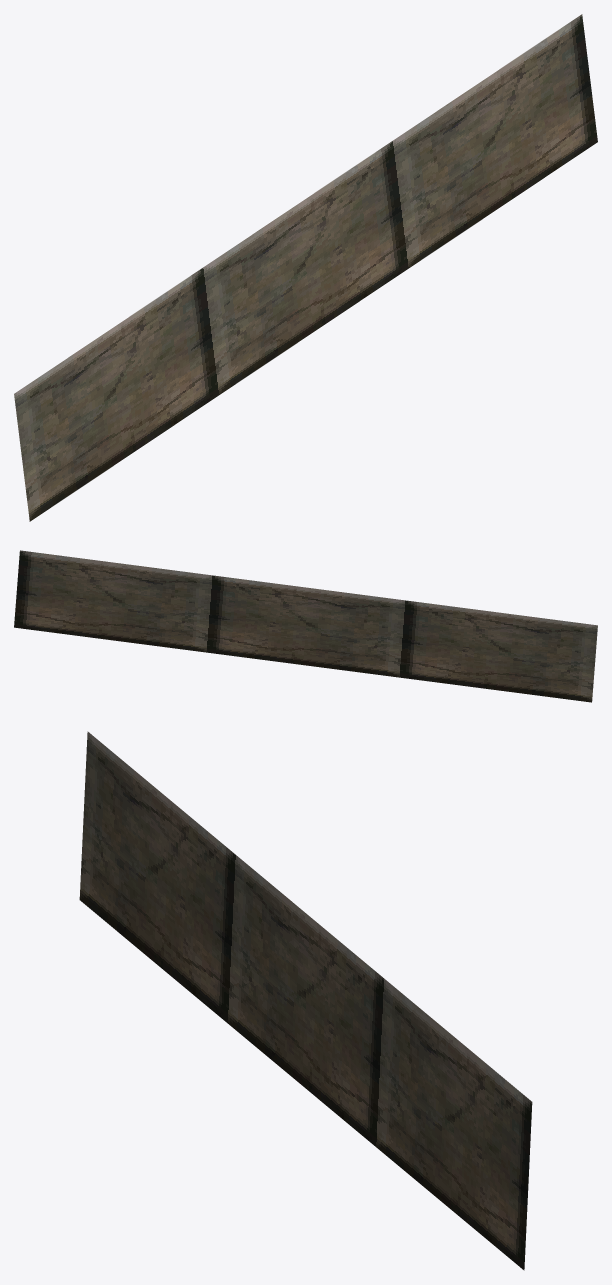
File: CH09_SMAUG_PLAYSURFACE_LAIR119.fbx
3 renders of one model, top to bottom at view 1: azimuth 30°, elevation 25°; view 2: azimuth 150°, elevation 25°; view 3: azimuth 270°, elevation 25°, orthographic. The views are drawn at different scales.
Parts seen in each view (by area): view 1: CH09_SMAUG_PLAYSURFACE_LAIR119; view 2: CH09_SMAUG_PLAYSURFACE_LAIR119; view 3: CH09_SMAUG_PLAYSURFACE_LAIR119.
Part boxes in pixels (box(x1,y1,x2,y2)): CH09_SMAUG_PLAYSURFACE_LAIR119: box(14, 14, 597, 521); CH09_SMAUG_PLAYSURFACE_LAIR119: box(14, 550, 597, 702); CH09_SMAUG_PLAYSURFACE_LAIR119: box(79, 731, 532, 1270).
Size of the model in its own units: 37410 by 9265 by 15444.
1 material, 1 textured.
